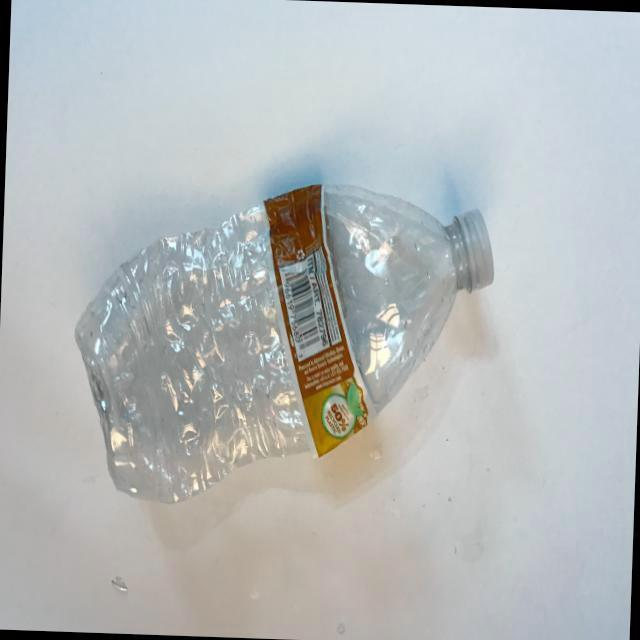plastic: (64, 13, 562, 563)
